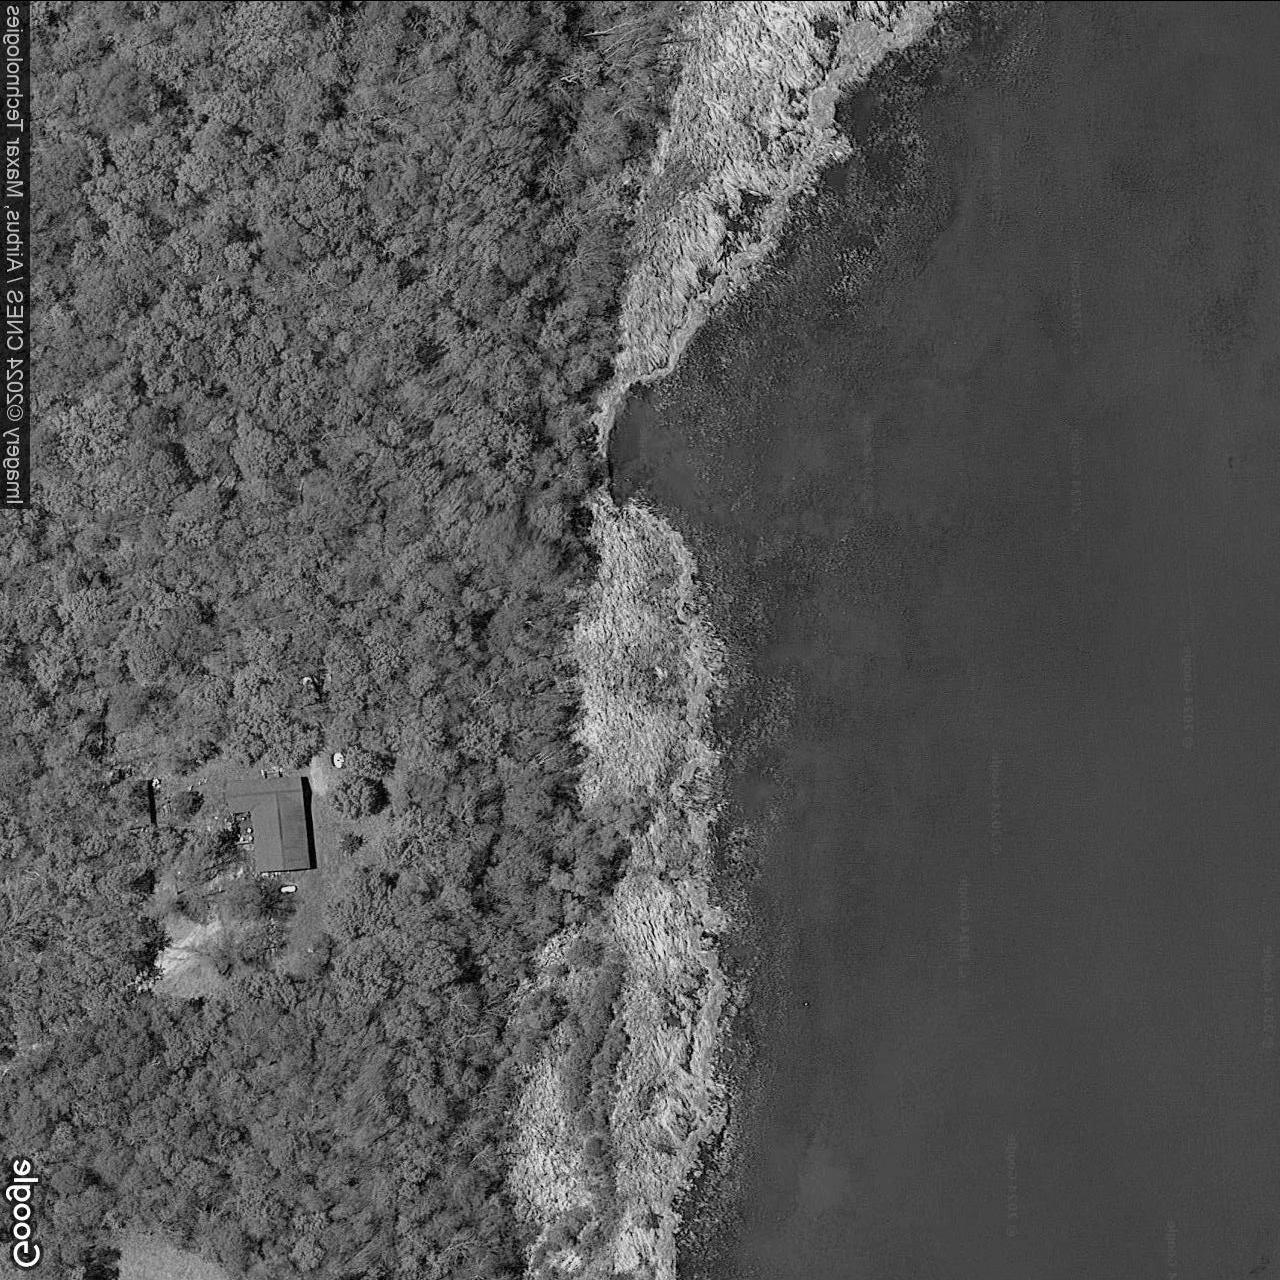House: (223, 776, 312, 872)
Propane: (277, 881, 299, 894)
